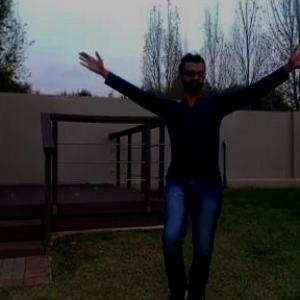takeoff: (74, 48, 300, 299)
